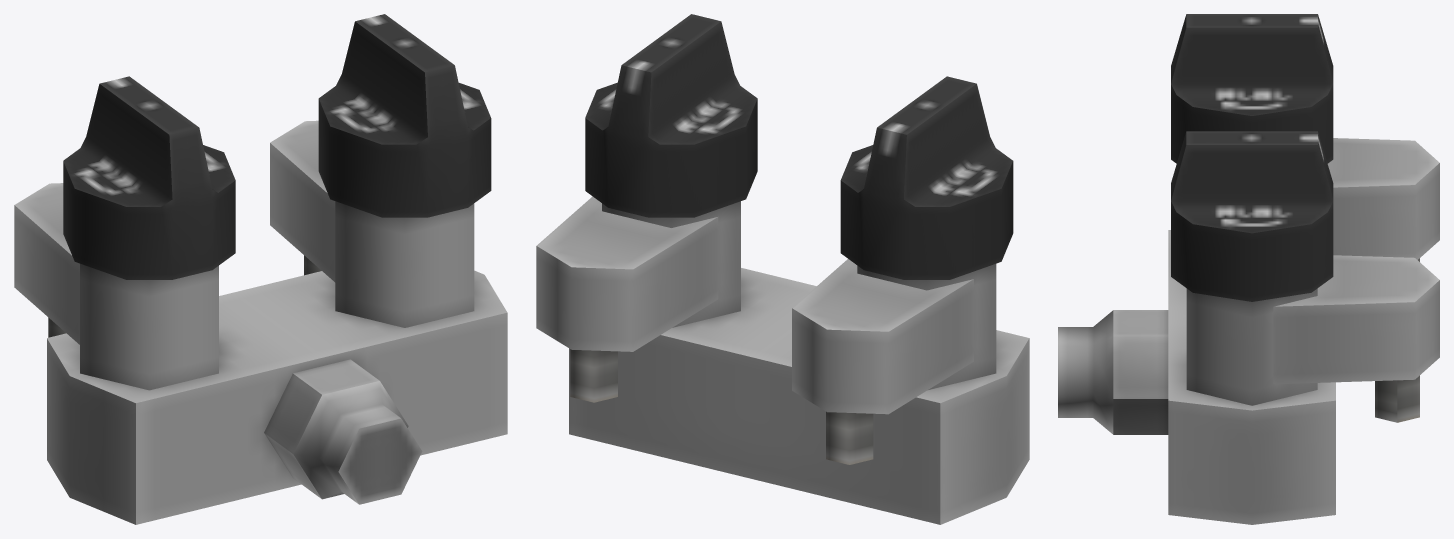
The model's file is jsf_GasDistributionUnit.fbx.
3 renders of one model, left to right at view 1: azimuth 30°, elevation 25°; view 2: azimuth 150°, elevation 25°; view 3: azimuth 270°, elevation 25°, orthographic. The views are drawn at different scales.
Visible parts, largest first — view 1: Body, Valve01, Valve02; view 2: Body, Valve02, Valve01; view 3: Body, Valve01, Valve02.
Boxes of the visible parts, x1=… form: Body: x1=14, y1=120, x2=507, y2=524; Valve01: x1=318, y1=14, x2=491, y2=217; Valve02: x1=63, y1=76, x2=235, y2=279; Body: x1=536, y1=196, x2=1029, y2=524; Valve02: x1=840, y1=76, x2=1013, y2=279; Valve01: x1=585, y1=14, x2=757, y2=217; Body: x1=1058, y1=138, x2=1439, y2=524; Valve01: x1=1171, y1=131, x2=1333, y2=301; Valve02: x1=1171, y1=14, x2=1333, y2=163.
Size of the model in its own units: 9.07 by 7.78 by 7.69.
